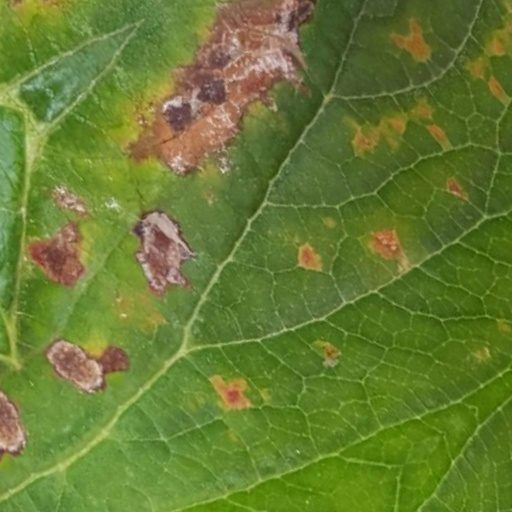Angular Leafspot: (0, 28, 492, 482)
